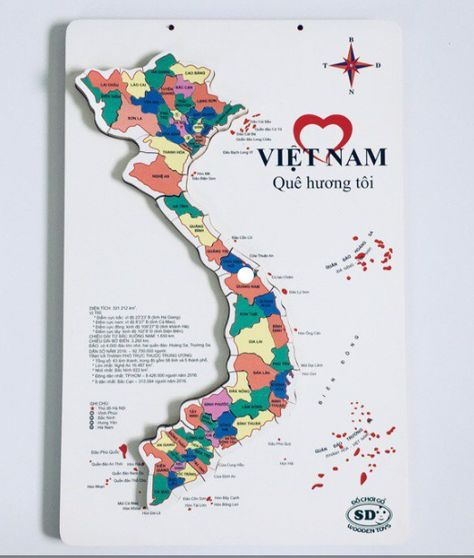Island: (312, 398, 407, 492), (323, 227, 395, 283)
